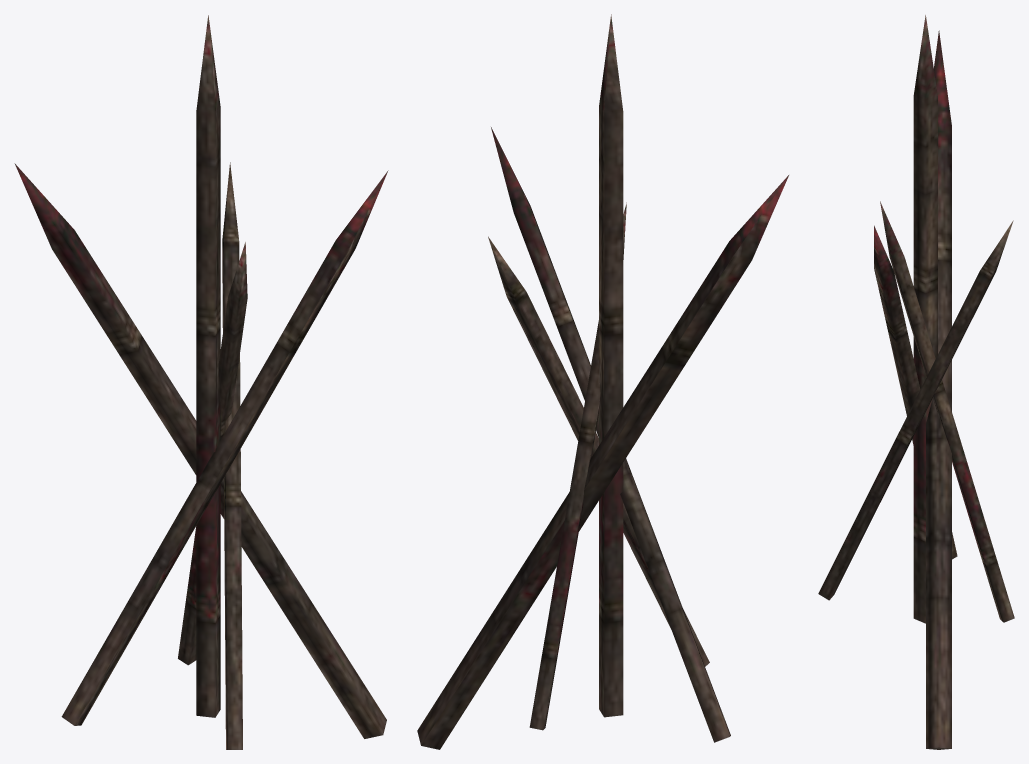
The model's file is Camp2.fbx.
The picture shows the model from 3 angles, left to right: view 1: azimuth 30°, elevation 25°; view 2: azimuth 150°, elevation 25°; view 3: azimuth 270°, elevation 25°; orthographic projection. The views are drawn at different scales.
Visible parts, largest first — view 1: Camp2; view 2: Camp2; view 3: Camp2.
Boxes of the visible parts, left/top/right/bottom form: Camp2: left=14, top=15, right=388, bottom=749; Camp2: left=417, top=14, right=788, bottom=749; Camp2: left=818, top=15, right=1014, bottom=749.
Size of the model in its own units: 25.29 by 49.98 by 13.36.
